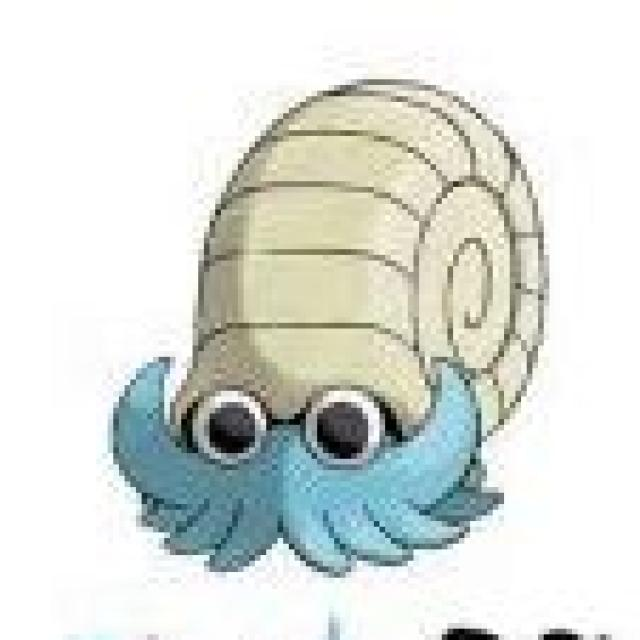Omanyte: (154, 77, 546, 567)
